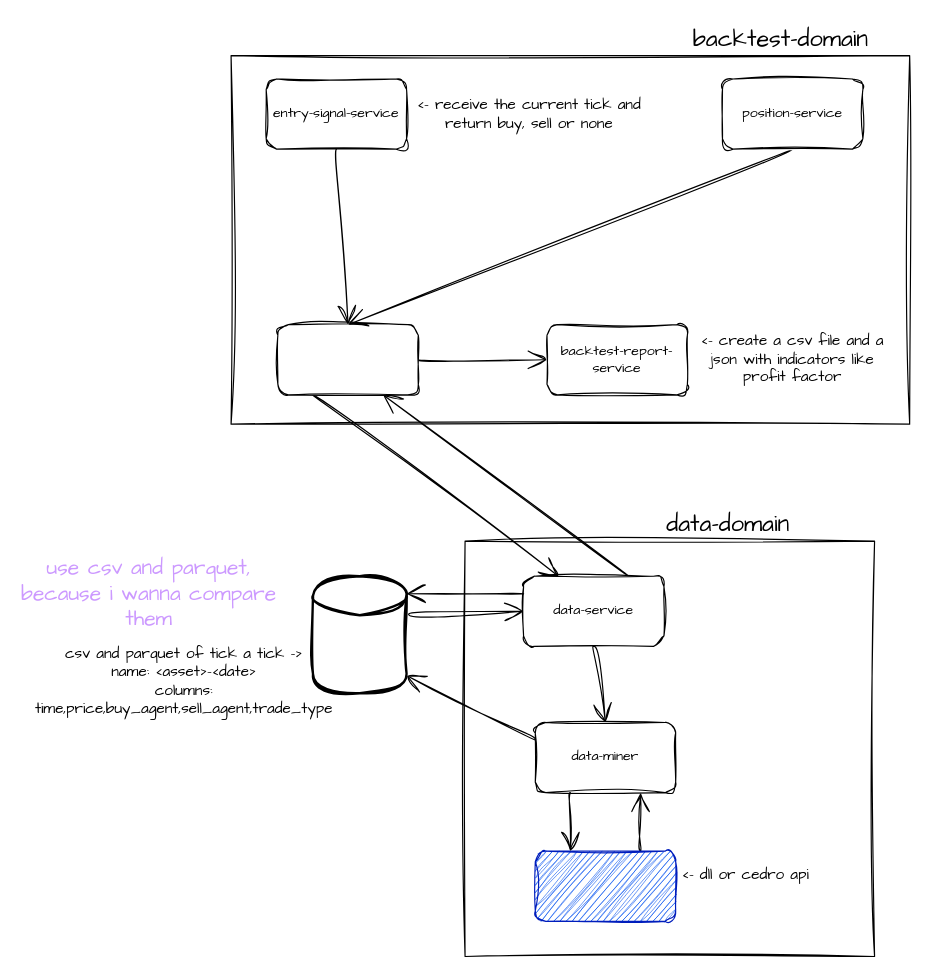
Some shapes in this 952 by 977 pixel diagram are drawn without their labels. The shapes that lost their labels are listed below. From the top down, each one's box as (x1, y1, x2, y2) in pixels, then its label:
(277, 324, 418, 395): backtest-core
(311, 574, 407, 694): data
(534, 850, 676, 921): external-service
